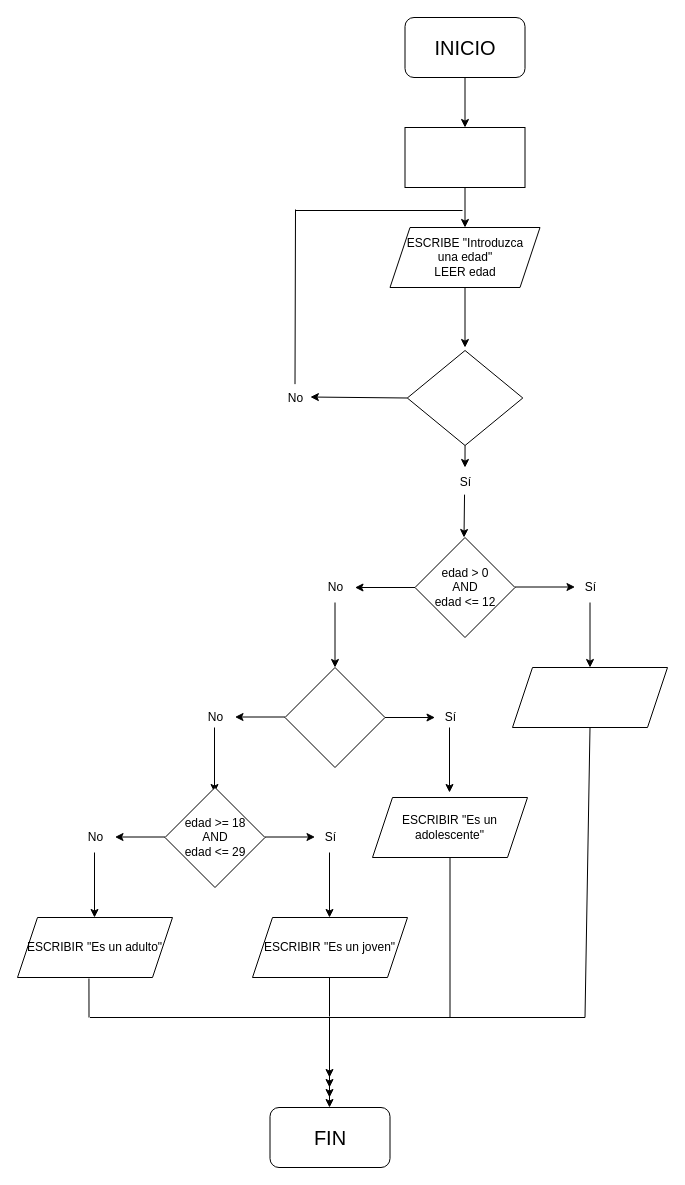
The diagram is 685 pixels wide and 1185 high, and some of its shapes have lost their labels. The shapes that lost their labels are listed below. From the top down, each one's centre as x and y in pixels, then its label:
(464,157): edad: ENTERO
(464,398): edad >=0 AND edad < 100
(334,717): edad >= 13 AND edad <= 17
(590,697): ESCRIBIR "Es un niño"
